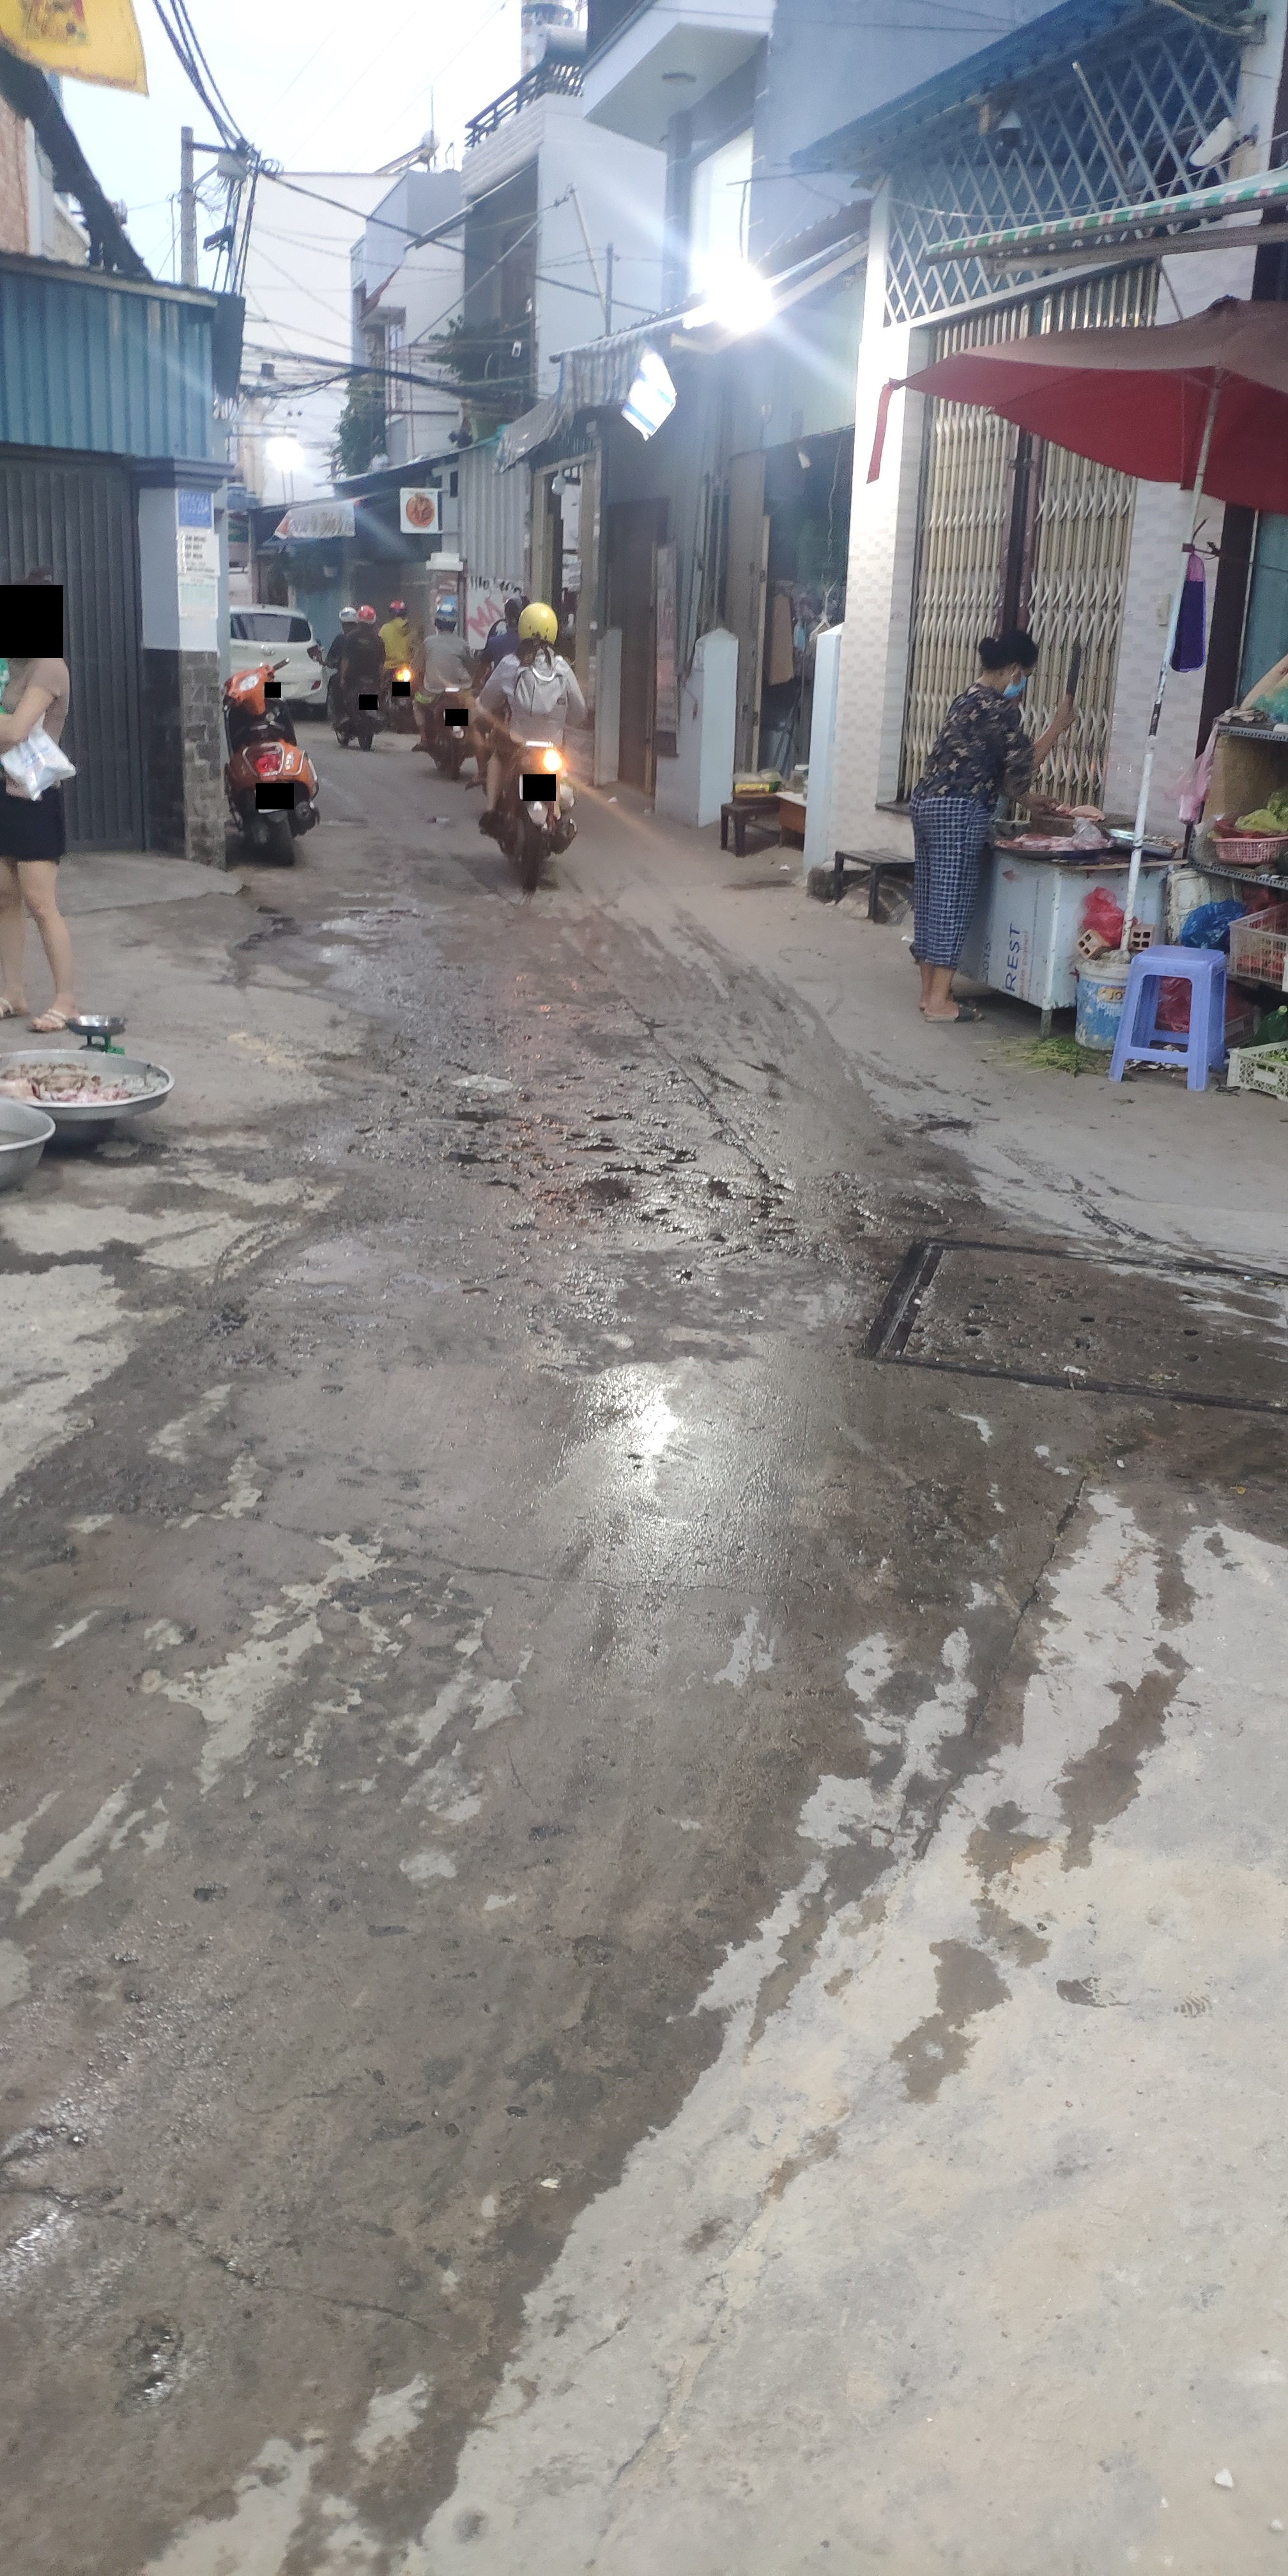hole: (393, 1068, 889, 1257)
